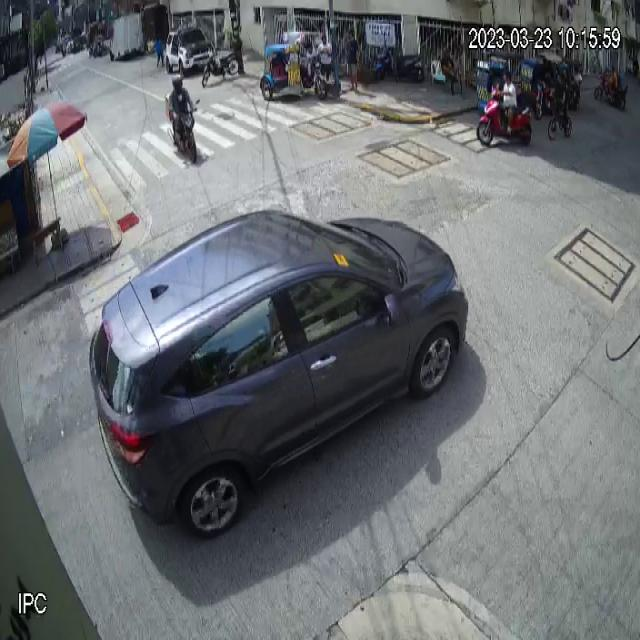Car: (87, 209, 471, 539)
Motorcycle: (476, 84, 533, 148), (167, 95, 201, 168)
Tricycle: (260, 28, 328, 102)
